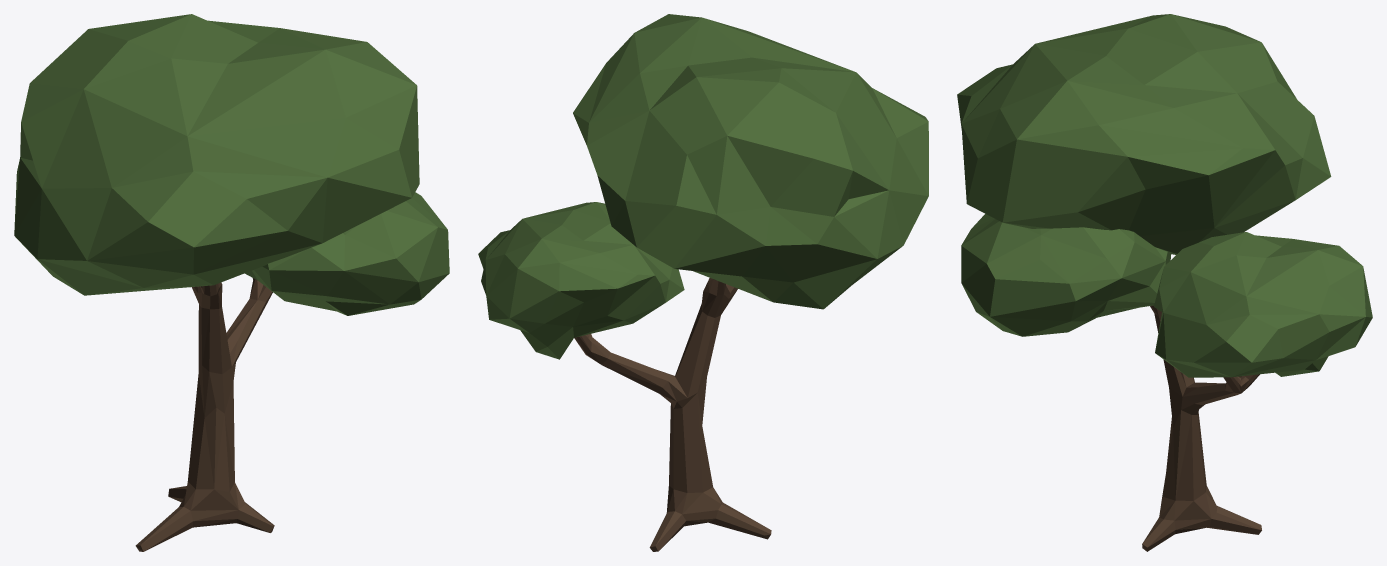
The model's file is SM_Envr_Nature_Farm_Tree_Pomegranate_Young.fbx.
3 views of the same model, side by side, from view 1: azimuth 30°, elevation 25°; view 2: azimuth 150°, elevation 25°; view 3: azimuth 270°, elevation 25° (orthographic). The views are drawn at different scales.
Parts seen in each view (by area): view 1: SM_Envr_Nature_Farm_Tree_Pomegranate_Young; view 2: SM_Envr_Nature_Farm_Tree_Pomegranate_Young; view 3: SM_Envr_Nature_Farm_Tree_Pomegranate_Young.
Boxes of the visible parts, x1,y1,x2,y2 form: SM_Envr_Nature_Farm_Tree_Pomegranate_Young: [14, 14, 449, 551]; SM_Envr_Nature_Farm_Tree_Pomegranate_Young: [478, 14, 928, 551]; SM_Envr_Nature_Farm_Tree_Pomegranate_Young: [957, 14, 1372, 551].
Bounding box in the file's own units: 660 × 793 × 625.
